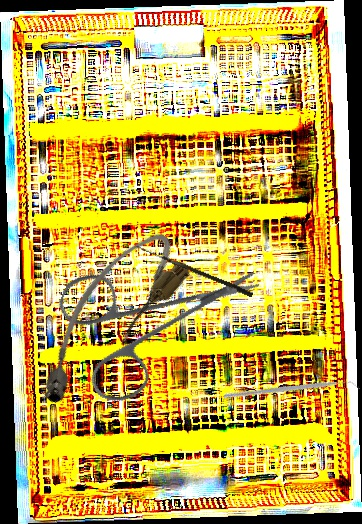Cannula: (13, 220, 199, 415)
Chopper: (222, 326, 361, 459)
Hook Surgical: (133, 245, 255, 298)
Iris Scissors: (30, 204, 264, 438)
